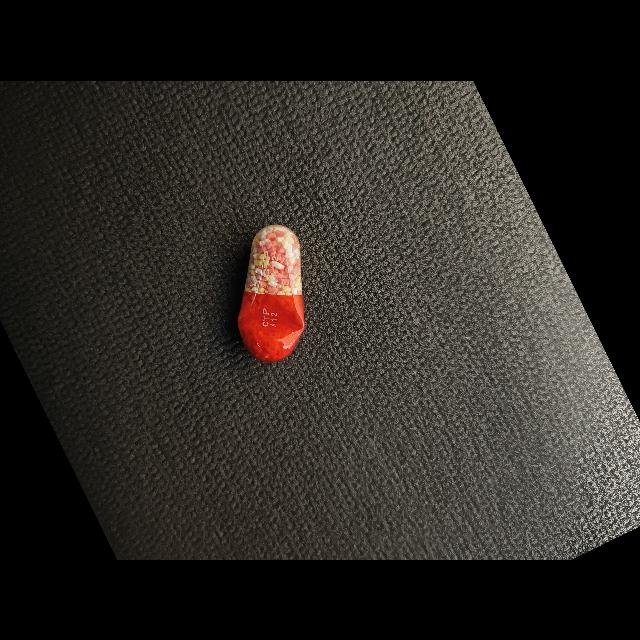Defective Capsule: (238, 224, 305, 362)
